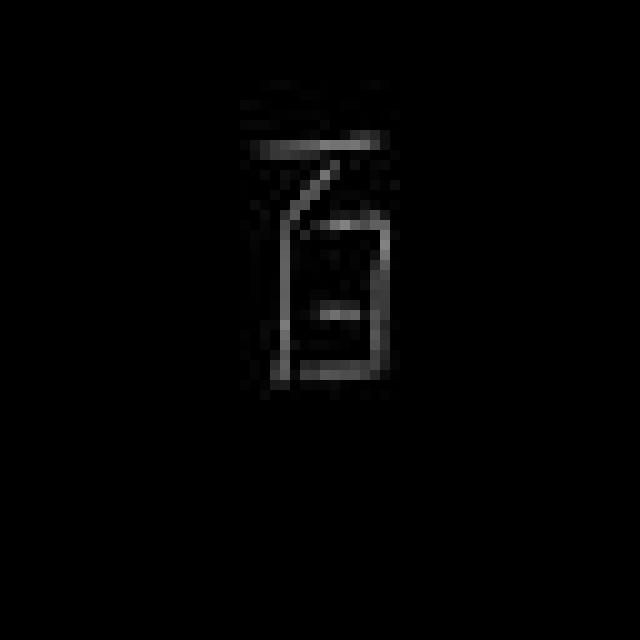100 -a hundred-: (241, 120, 398, 399)
